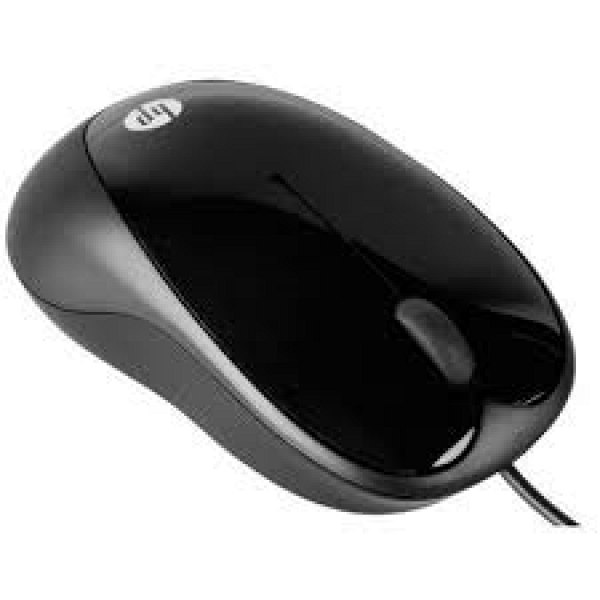hp-mouse-X1000: (1, 99, 580, 520)
